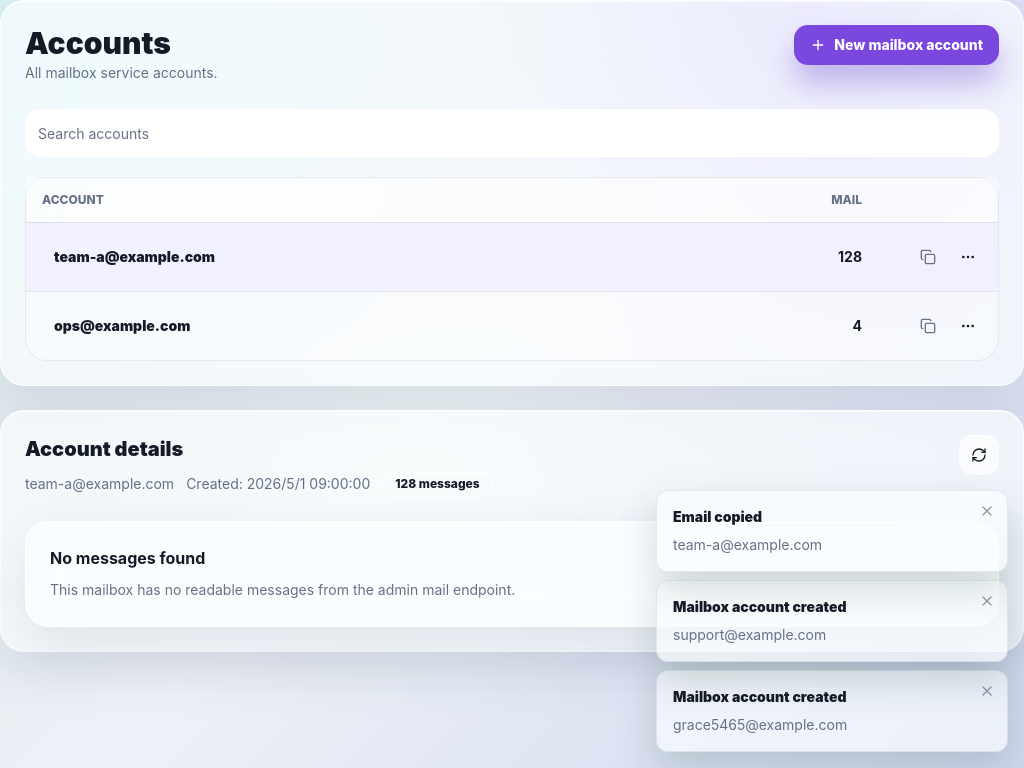
it: AccountsPage › shows detected message codes beside account detail subjects and copies without opening details
This screenshot has width=1024, height=768.
Click the button with aria-label "Open ops@example.com account" at (122, 325), box [42, 304, 774, 348]
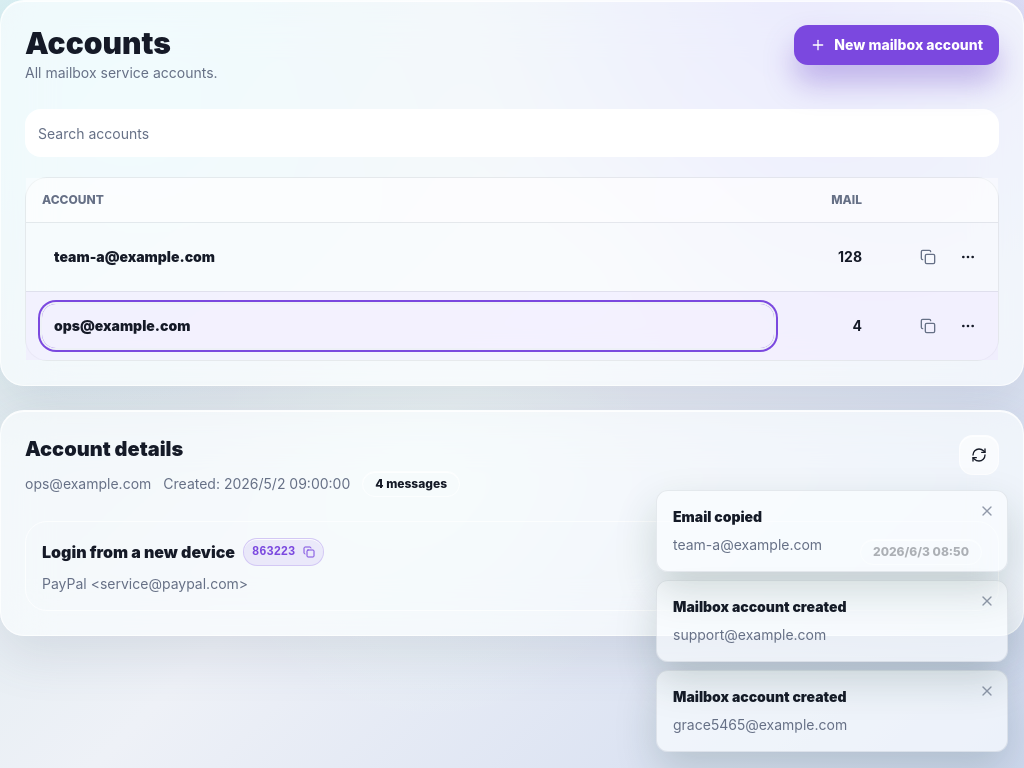
Check: the button named "Copy code 863223" is shown
Click the button named "Copy code 863223" at (284, 552), box [243, 538, 324, 566]
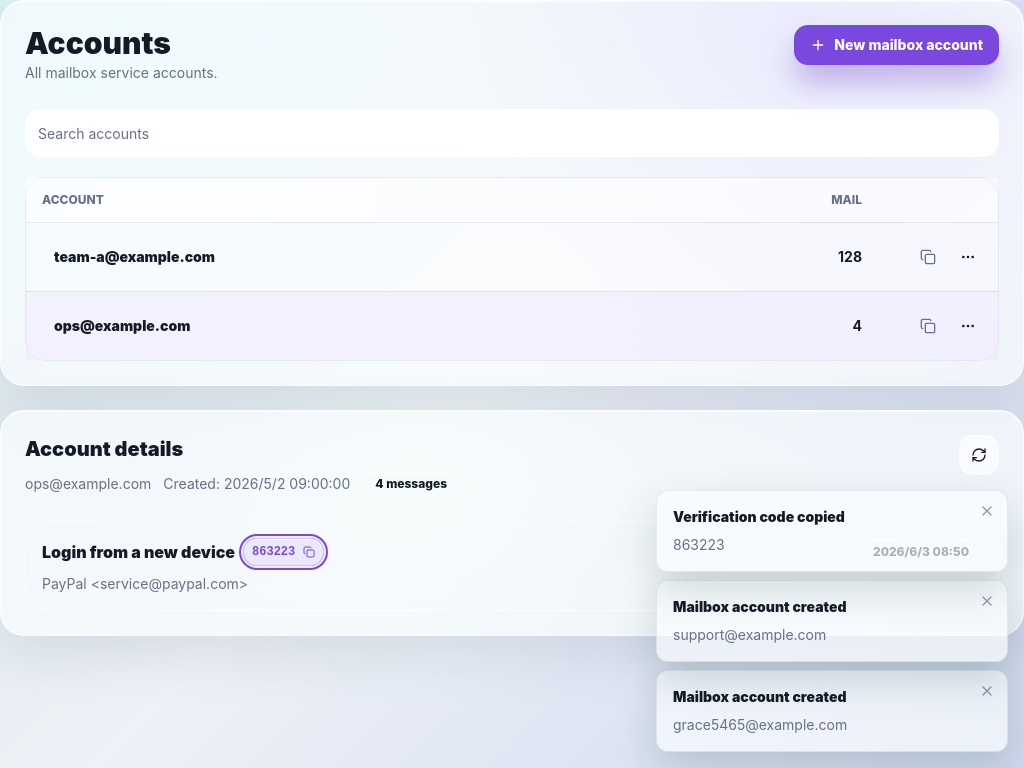
Check: the text "Verification code copied" is shown, box [673, 507, 845, 527]
